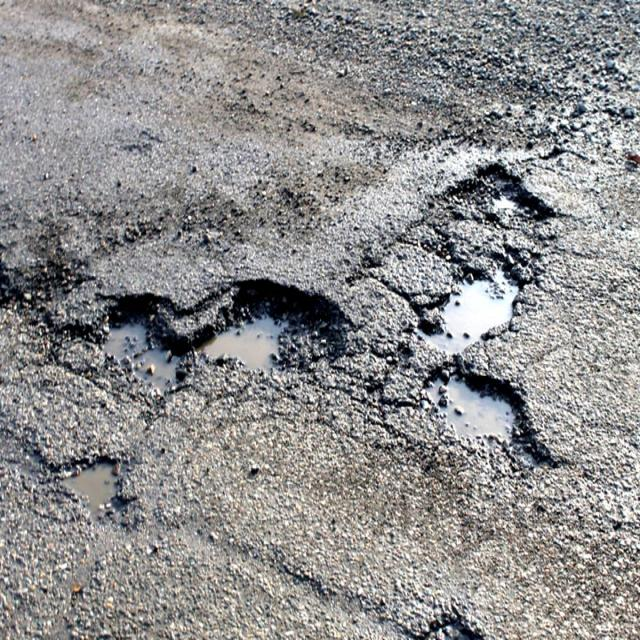pothole: (421, 240, 548, 475), (193, 270, 349, 392), (436, 149, 553, 227), (99, 285, 179, 398)
